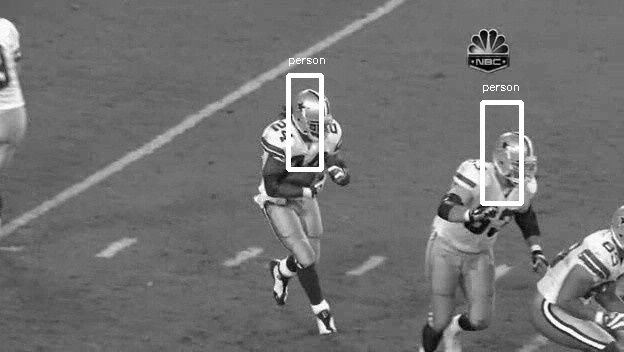person: (295, 90, 332, 137), (294, 90, 331, 137), (296, 90, 333, 137), (295, 89, 332, 136), (295, 91, 332, 138)
target_negative: (486, 68, 586, 308), (361, 35, 441, 298), (210, 291, 585, 341), (189, 75, 298, 242), (151, 313, 603, 349), (605, 52, 616, 192)
